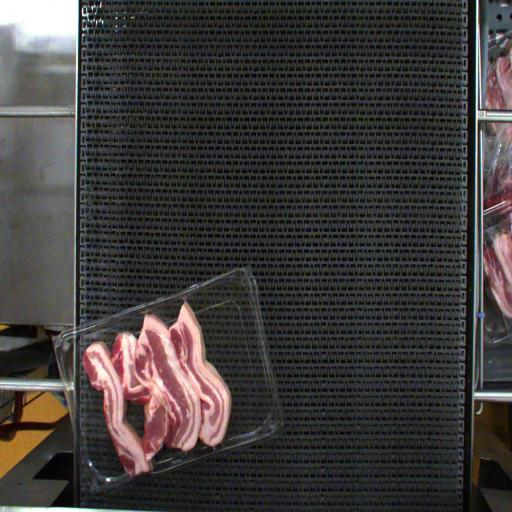packaging-error: (180, 292, 189, 304)
